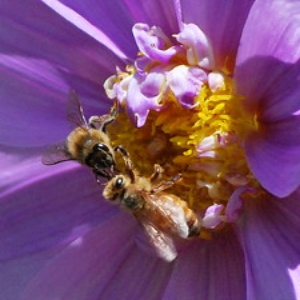bee: (103, 171, 219, 266), (41, 89, 132, 174)
